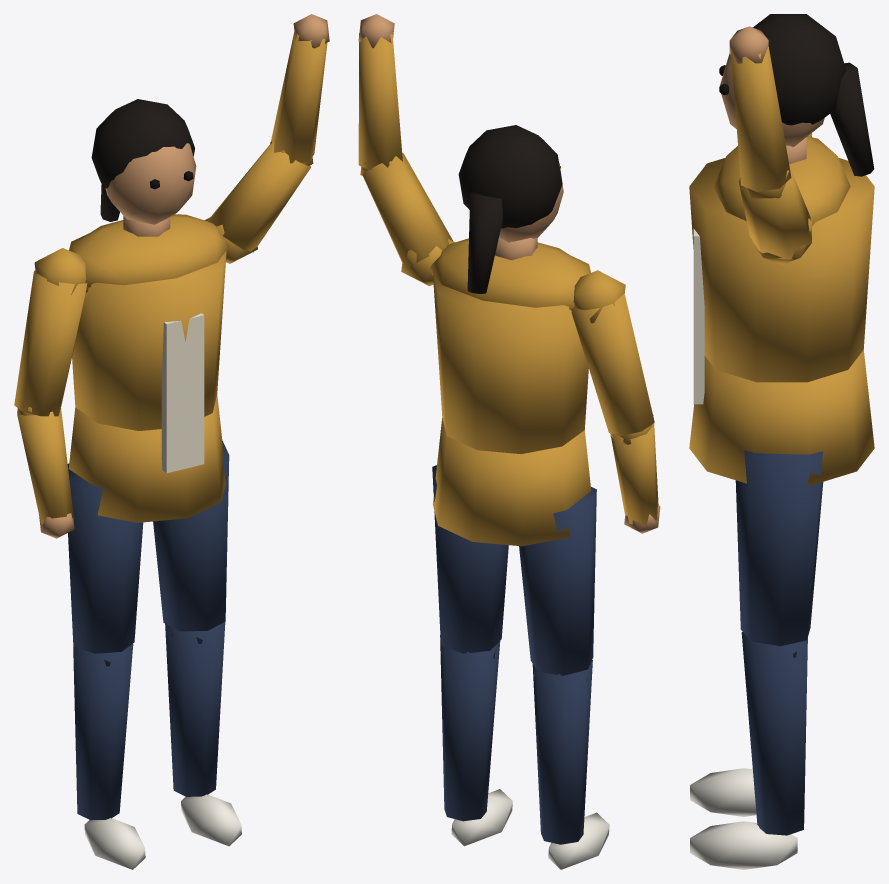
Rendered from spectator_01_v01.glb.
The picture shows the model from 3 angles, left to right: view 1: azimuth 30°, elevation 25°; view 2: azimuth 150°, elevation 25°; view 3: azimuth 270°, elevation 25°; orthographic projection. The views are drawn at different scales.
Parts seen in each view (by area): view 1: spectator_01_v01; view 2: spectator_01_v01; view 3: spectator_01_v01.
Part boxes in pixels (x1,y1,x2,y2): spectator_01_v01: (14, 14, 329, 869); spectator_01_v01: (358, 14, 660, 869); spectator_01_v01: (689, 14, 874, 869).
Size of the model in its own units: 0.7154 by 1.82 by 0.34.
Materials: 1 (1 with a texture image).
